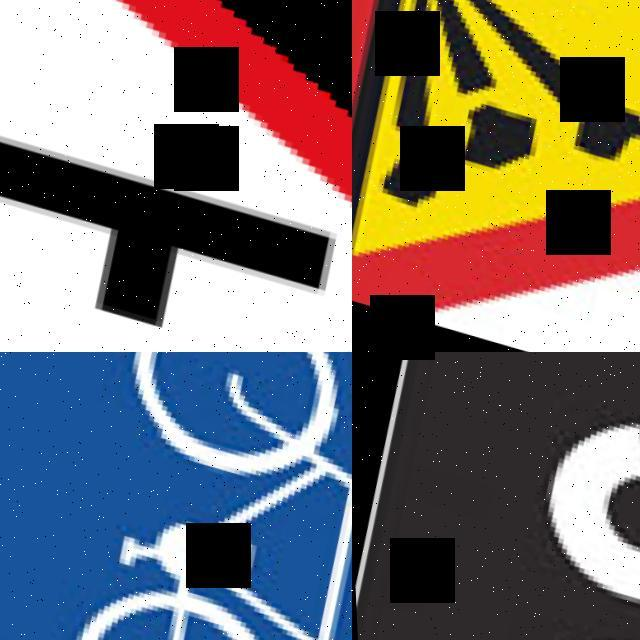100: (352, 352, 640, 640)
159: (352, 0, 640, 352)
90: (0, 352, 352, 640)
Side road junction: (0, 0, 352, 352)
